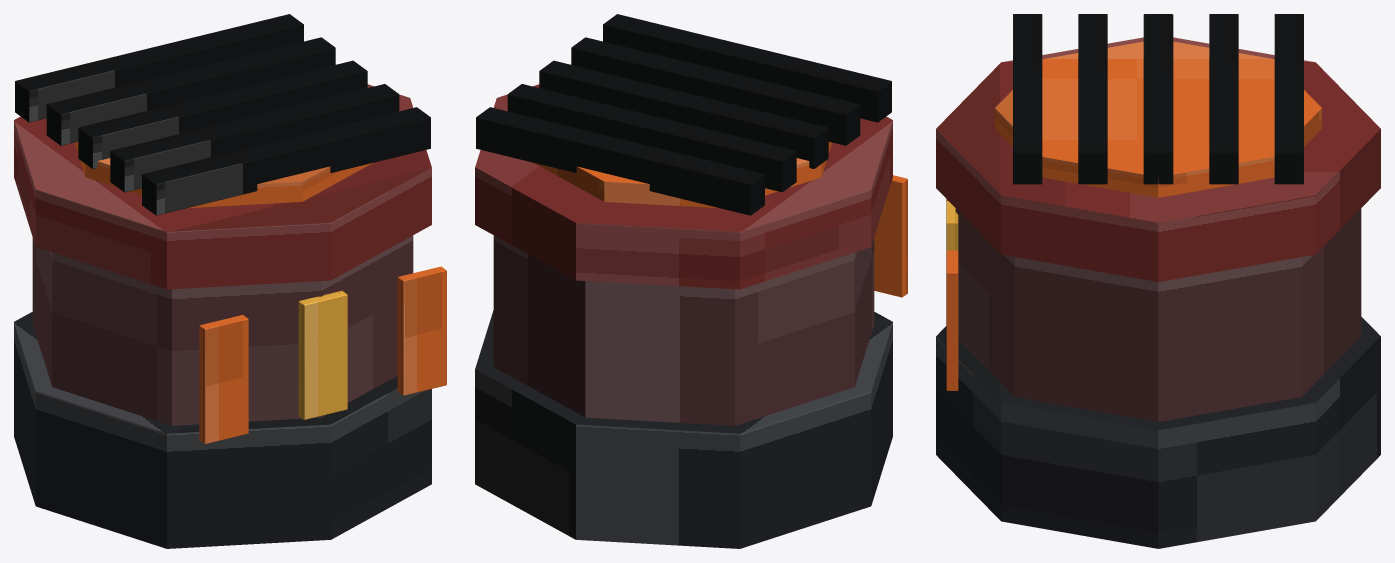
Rendered from lava_vent.glb.
The picture shows the model from 3 angles, left to right: view 1: azimuth 30°, elevation 25°; view 2: azimuth 150°, elevation 25°; view 3: azimuth 270°, elevation 25°; orthographic projection. The views are drawn at different scales.
Visible parts, largest first — view 1: VentBase, VentBody, VentTopLip, VentGrille_1, VentGrille_4, VentGrille_2, VentGrille_5, VentGrille_3, LavaGlow_3, LavaGlow_1, LavaGlow_2, LavaWell; view 2: VentBase, VentBody, VentTopLip, VentGrille_5, VentGrille_2, VentGrille_4, VentGrille_1, VentGrille_3, LavaGlow_1, LavaWell; view 3: VentBase, VentBody, VentTopLip, LavaWell, VentGrille_3, VentGrille_1, VentGrille_5, VentGrille_2, VentGrille_4, LavaGlow_3, LavaGlow_2.
Boxes of the visible parts, x1,y1,x2,y2 form: VentBase: (14, 312, 431, 548); VentBody: (32, 235, 413, 425); VentTopLip: (14, 84, 431, 289); VentGrille_1: (142, 107, 430, 215); VentGrille_4: (46, 37, 335, 145); VentGrille_2: (110, 84, 399, 192); VentGrille_5: (15, 14, 303, 122); VentGrille_3: (78, 60, 367, 168); LavaGlow_3: (397, 266, 446, 395); LavaGlow_1: (199, 315, 248, 444); LavaGlow_2: (298, 290, 347, 419); LavaWell: (74, 142, 372, 208); VentBase: (475, 310, 892, 548); VentBody: (493, 235, 874, 425); VentTopLip: (475, 84, 892, 289); VentGrille_5: (476, 107, 764, 215); VentGrille_2: (571, 37, 860, 145); VentGrille_4: (507, 84, 796, 192); VentGrille_1: (603, 14, 891, 122); VentGrille_3: (539, 60, 828, 168); LavaGlow_1: (874, 175, 907, 297); LavaWell: (534, 142, 832, 208); VentBase: (936, 317, 1380, 548); VentBody: (955, 208, 1361, 421); VentTopLip: (936, 37, 1380, 281); LavaWell: (995, 41, 1321, 197); VentGrille_3: (1143, 14, 1173, 184); VentGrille_1: (1013, 14, 1042, 184); VentGrille_5: (1274, 14, 1303, 184); VentGrille_2: (1078, 14, 1107, 184); VentGrille_4: (1209, 14, 1238, 184); LavaGlow_3: (946, 250, 958, 390); LavaGlow_2: (946, 201, 958, 250).
Size of the model in its own units: 0.68 by 0.6275 by 0.68.
Materials: 1 (1 with a texture image).
